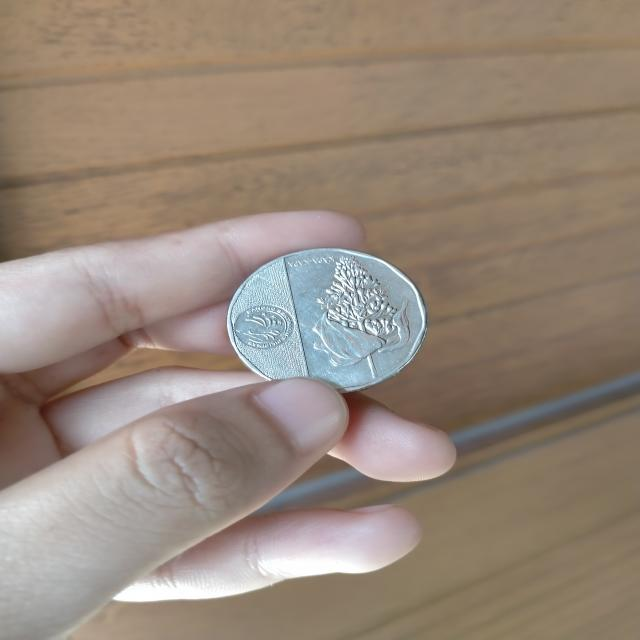10_New_Back: (305, 244, 421, 387)
